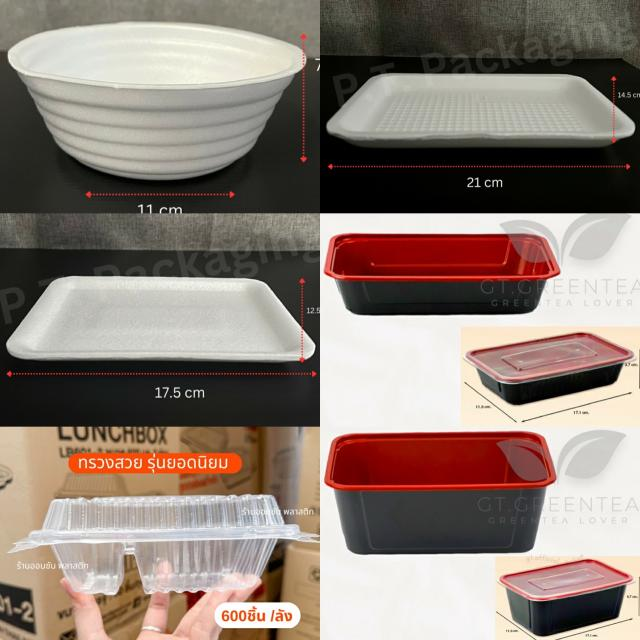Single-Use-Plastic: (8, 22, 304, 180), (10, 495, 316, 595), (324, 431, 555, 554), (6, 276, 315, 362), (327, 74, 635, 148), (324, 234, 559, 315), (464, 332, 635, 405), (499, 559, 634, 636)
